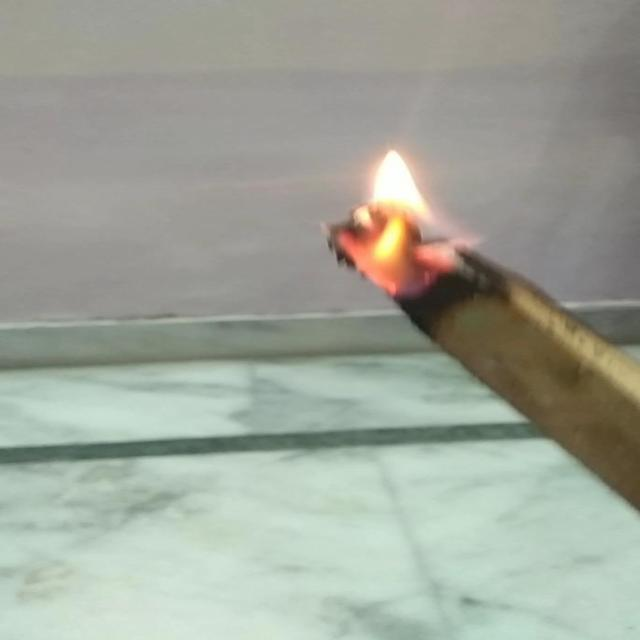smoke: (320, 142, 470, 300)
